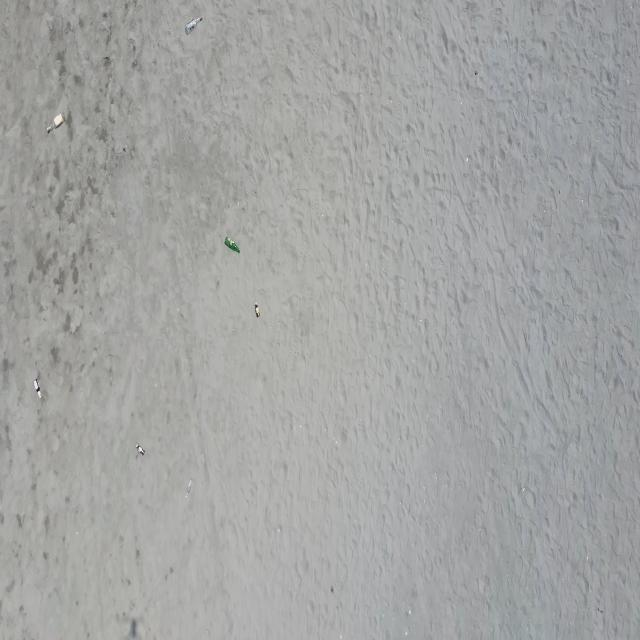glass: (46, 111, 66, 132), (185, 16, 202, 35), (224, 236, 240, 254), (185, 478, 194, 498), (34, 379, 41, 399), (136, 444, 145, 456), (255, 302, 260, 318)
